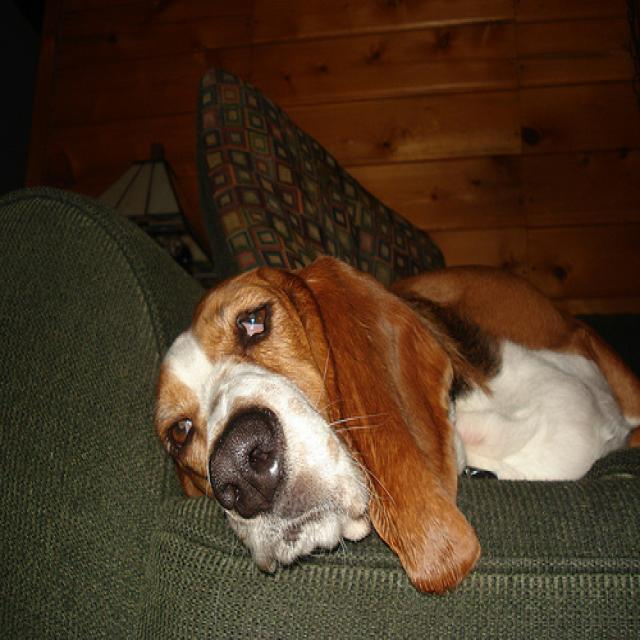dog-basset_hound: (148, 253, 637, 597)
